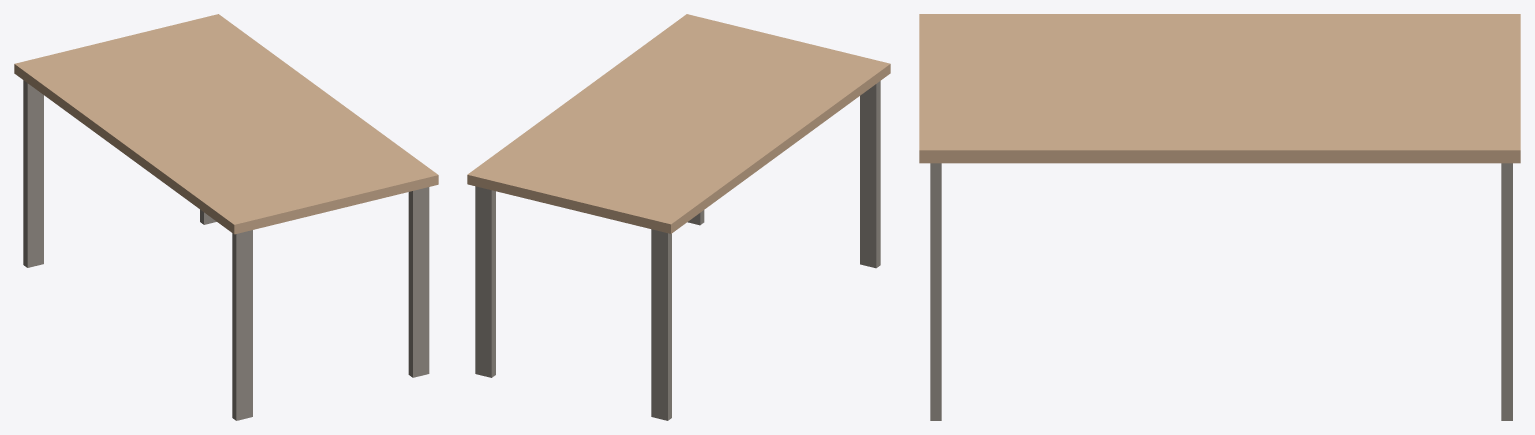
File: table_work.fbx
3 views of the same model, side by side, from view 1: azimuth 30°, elevation 25°; view 2: azimuth 150°, elevation 25°; view 3: azimuth 270°, elevation 25° (orthographic). The views are drawn at different scales.
Visible parts, largest first — view 1: table_work; view 2: table_work; view 3: table_work.
Part boxes in pixels (x1,y1,x2,y2): table_work: [14, 14, 438, 420]; table_work: [467, 14, 890, 420]; table_work: [919, 14, 1520, 420].
Bounding box in the file's own units: 103 × 96.72 × 192.
